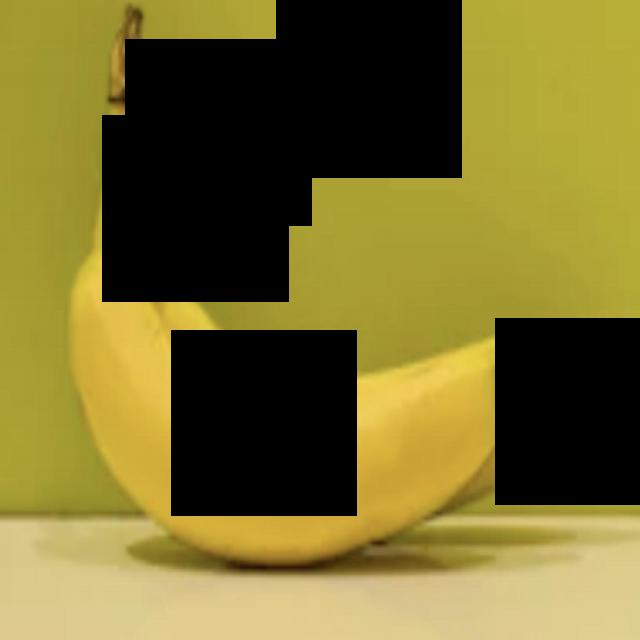banana: (41, 64, 536, 558)
